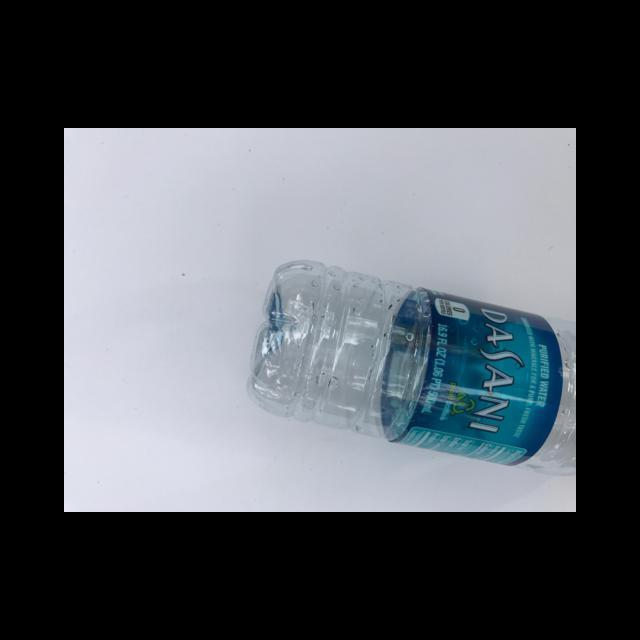plastic: (246, 260, 575, 473), (381, 285, 561, 465)
